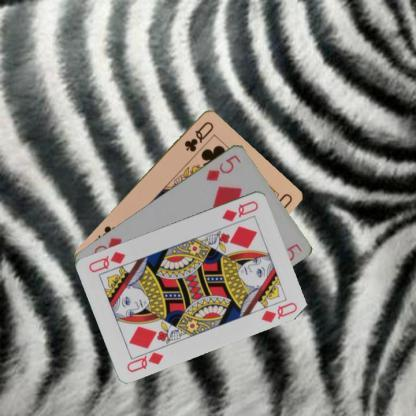5d: (203, 152, 243, 182)
Qc: (181, 118, 215, 152)
Qd: (124, 343, 165, 373), (219, 198, 260, 222)
